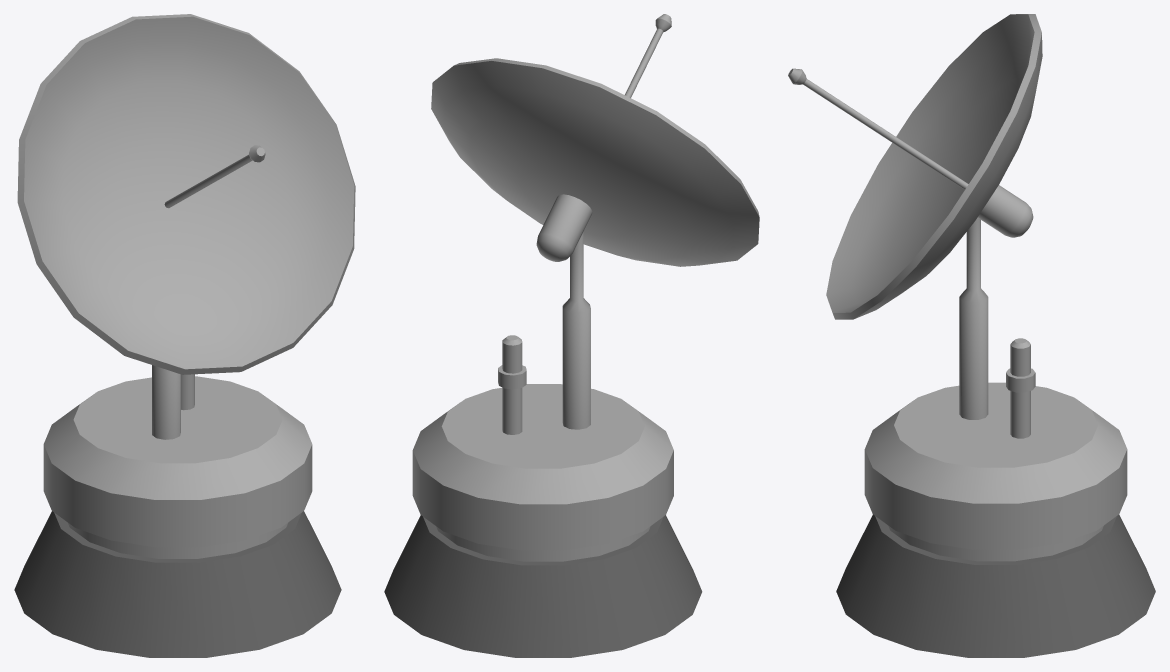
The model's file is roof_radar.glb.
3 renders of one model, left to right at view 1: azimuth 30°, elevation 25°; view 2: azimuth 150°, elevation 25°; view 3: azimuth 270°, elevation 25°, orthographic. The views are drawn at different scales.
Parts seen in each view (by area): view 1: Roof_Radar; view 2: Roof_Radar; view 3: Roof_Radar.
Part boxes in pixels (<box>): Roof_Radar: <box>14,14,355,657</box>; Roof_Radar: <box>384,14,759,657</box>; Roof_Radar: <box>788,14,1155,657</box>.
Bounding box in the file's own units: 1.63 × 2.71 × 1.65.
Materials: 1 (1 with a texture image).
